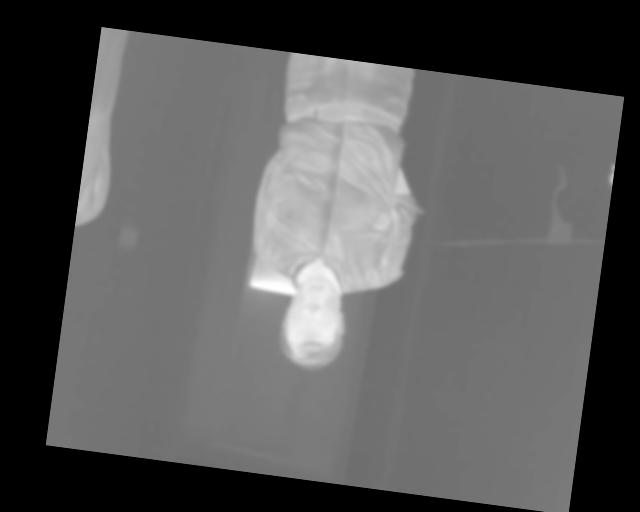face: (274, 272, 353, 374)
